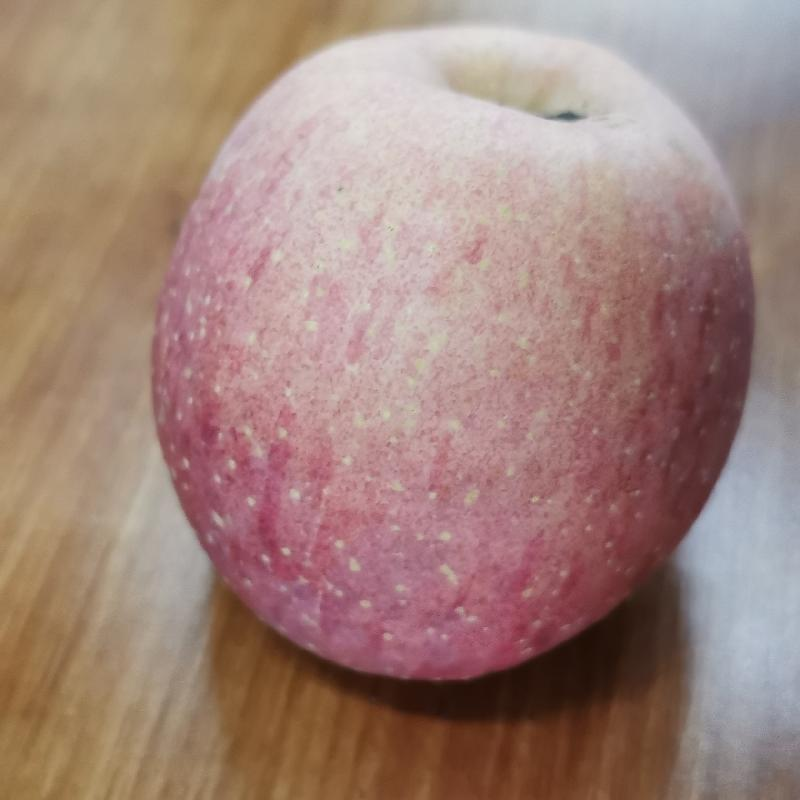apples: (149, 27, 762, 680)
